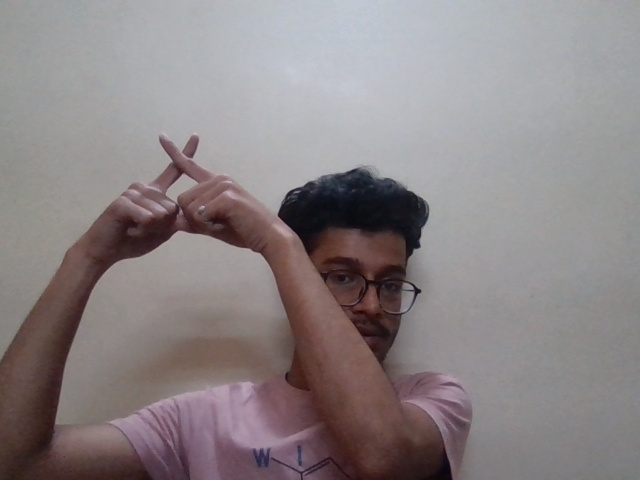X: (76, 132, 273, 262)
